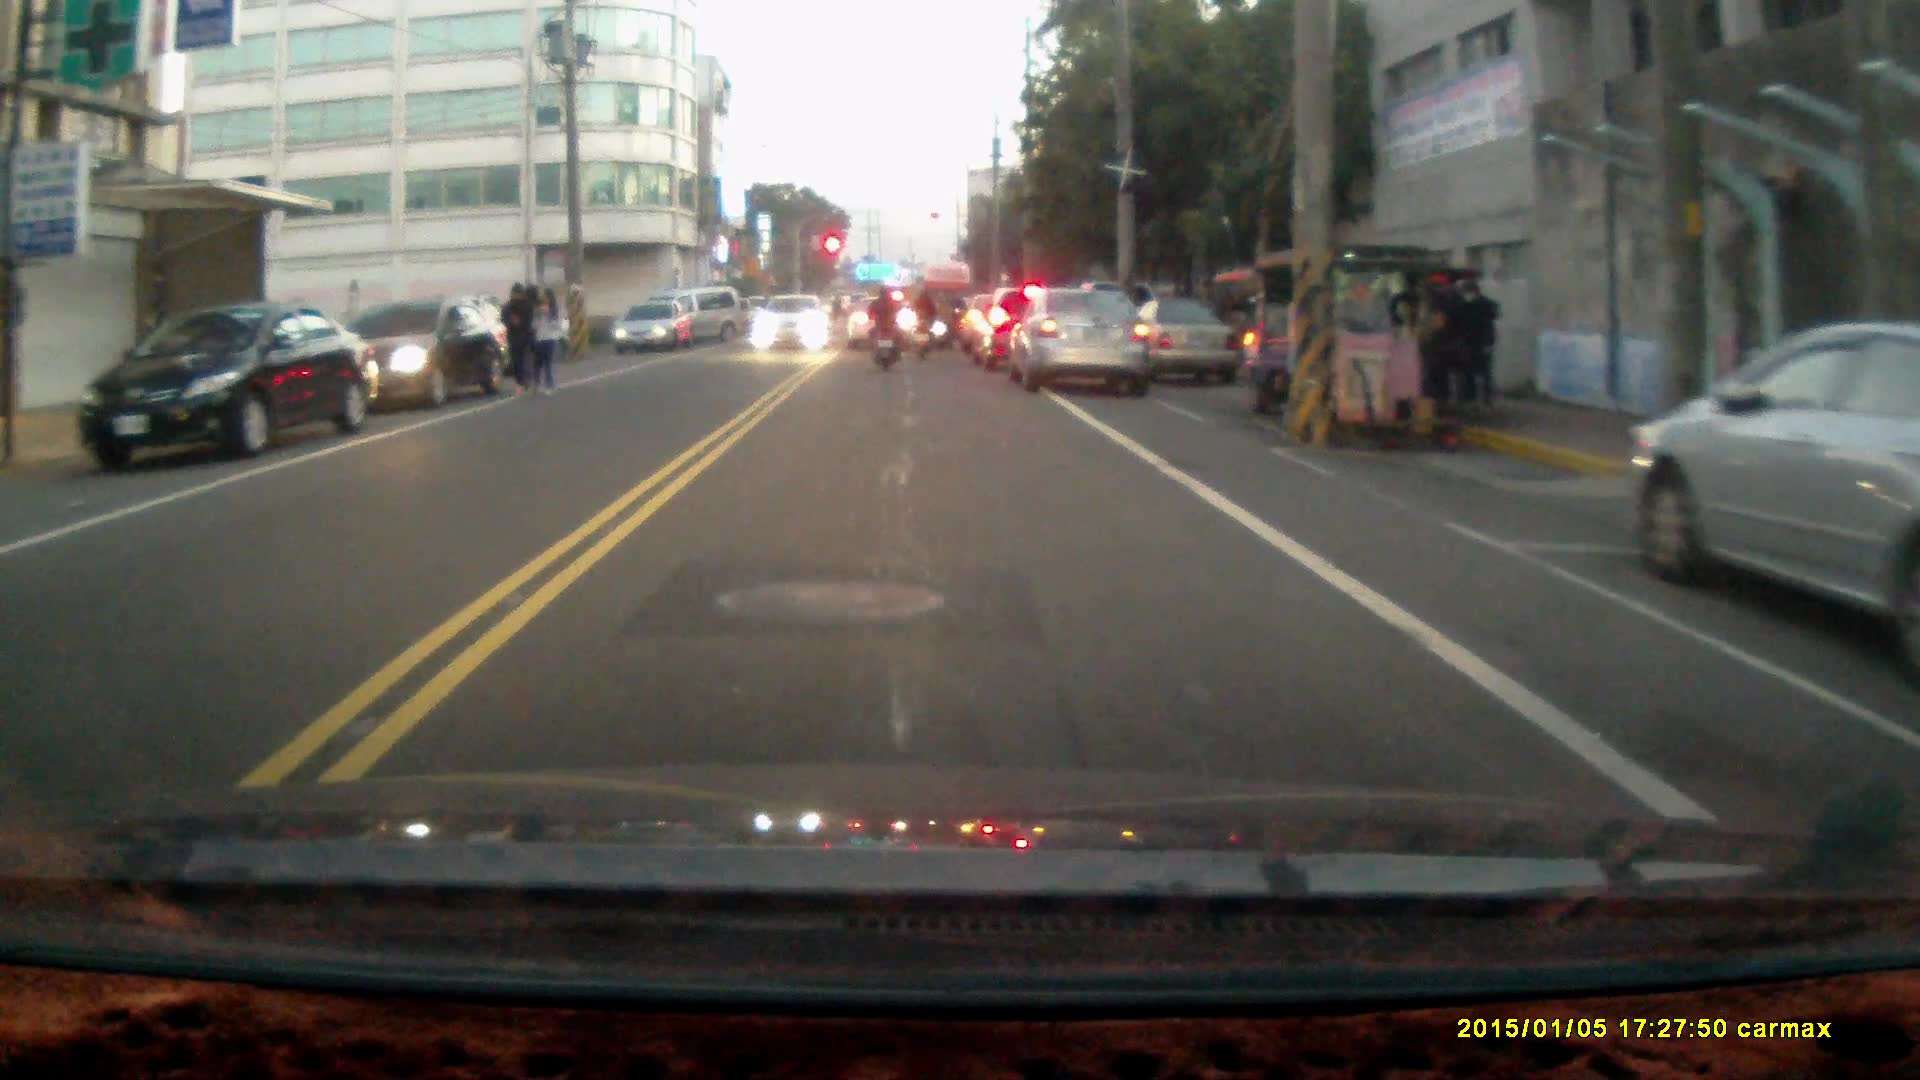pedestrian: (1454, 279, 1502, 417), (498, 278, 538, 396), (532, 283, 561, 396)
rider: (866, 282, 903, 373), (906, 283, 938, 362)
vehicle: (1622, 336, 1920, 663), (1234, 247, 1485, 439), (83, 306, 374, 470), (342, 298, 512, 416), (1013, 289, 1157, 400), (755, 296, 836, 358), (615, 301, 699, 355), (848, 295, 924, 354)
